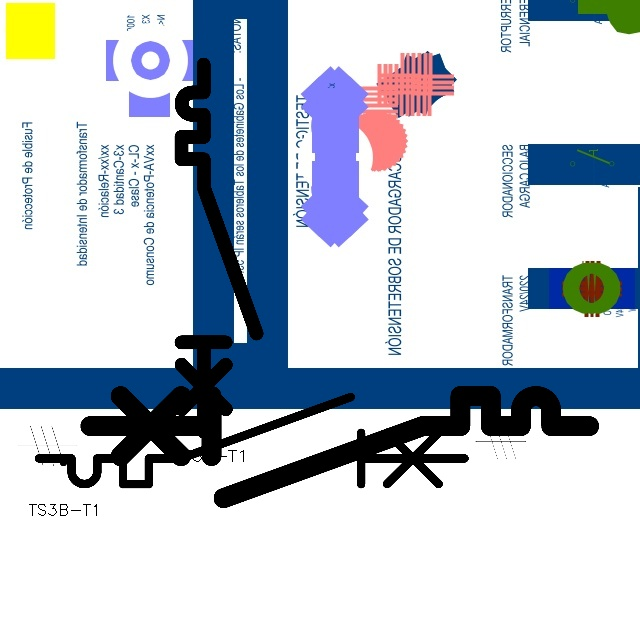interruptor_termomagnetico: (77, 383, 602, 511), (28, 386, 475, 495), (172, 55, 266, 441)
